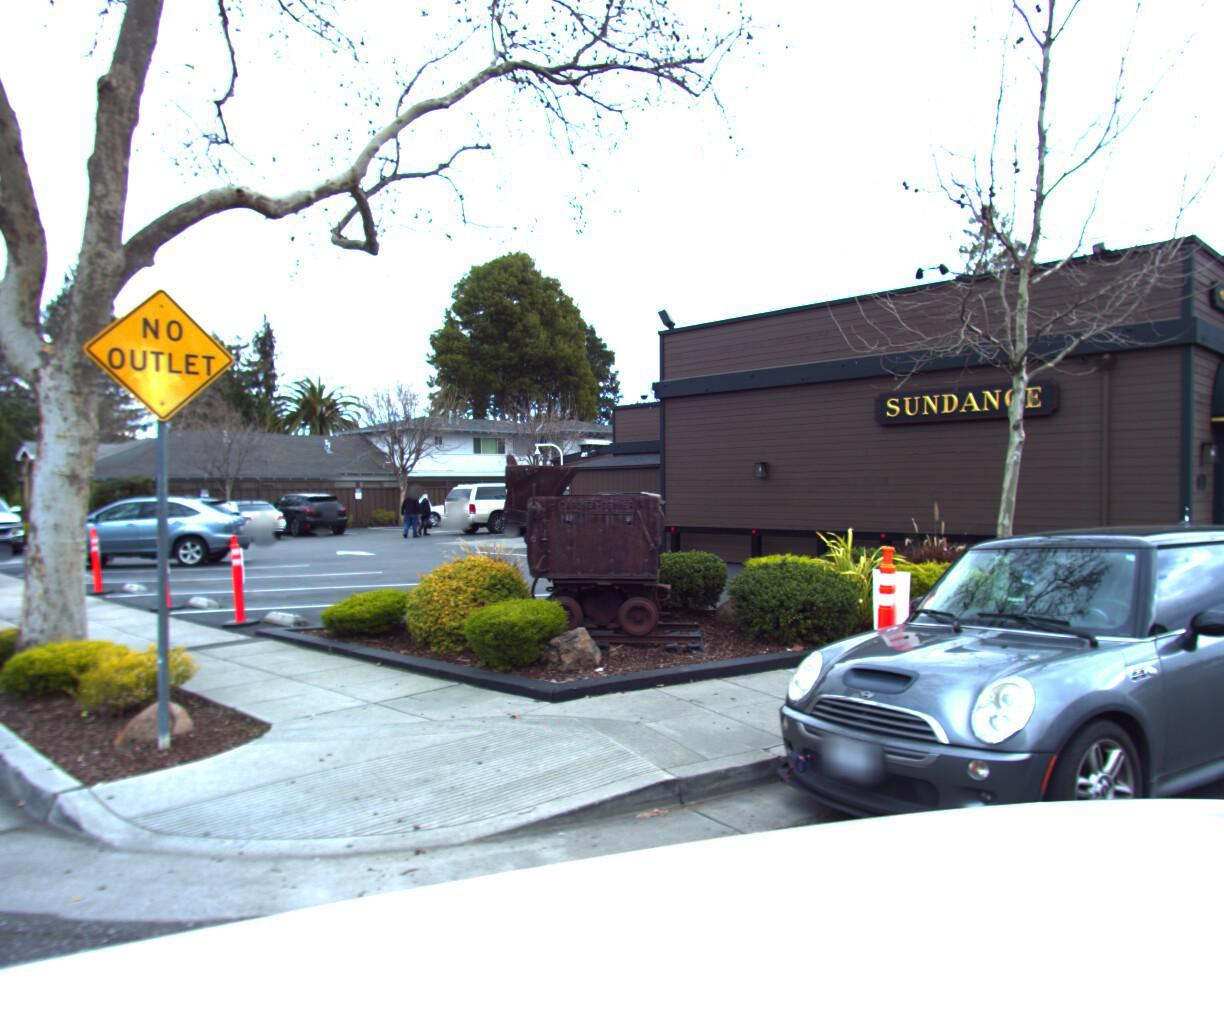car: (732, 514, 1224, 959), (13, 496, 263, 576), (0, 497, 33, 567)
